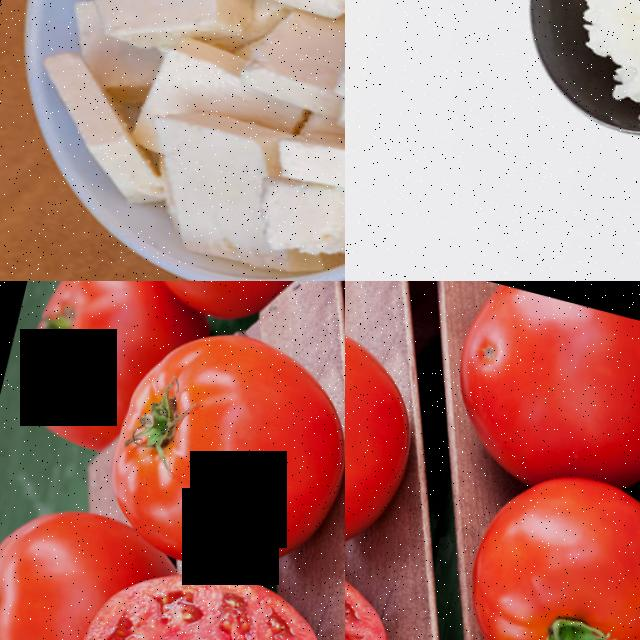tofu: (135, 94, 287, 262), (246, 116, 345, 273), (69, 0, 261, 67)
tomato: (94, 305, 345, 594), (435, 281, 640, 512), (448, 447, 640, 640), (48, 539, 344, 640), (345, 289, 436, 578)
